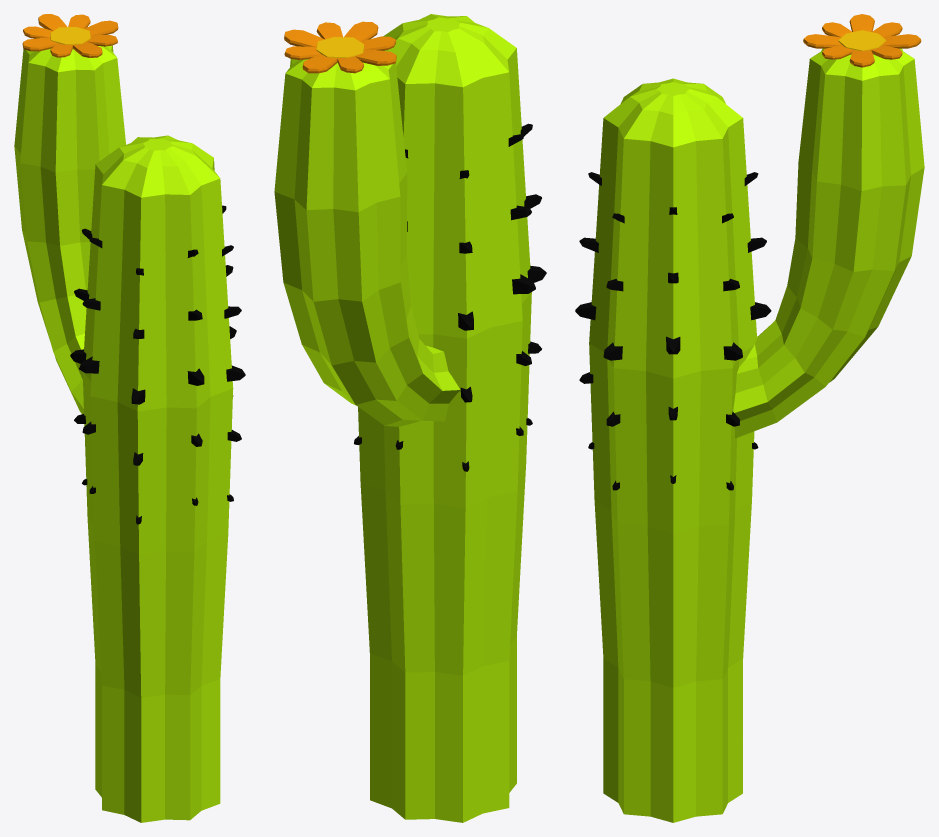
The model's file is Cardon03_01Brazo_Flor_Anaranjada.fbx.
3 views of the same model, side by side, from view 1: azimuth 30°, elevation 25°; view 2: azimuth 150°, elevation 25°; view 3: azimuth 270°, elevation 25° (orthographic). The views are drawn at different scales.
Visible parts, largest first — view 1: Cactus_Cuerpo, Espinas, Flor_Anaranjada; view 2: Cactus_Cuerpo, Flor_Anaranjada, Espinas; view 3: Cactus_Cuerpo, Flor_Anaranjada, Espinas.
Part boxes in pixels (<box>): Cactus_Cuerpo: <box>14,45,233,822</box>; Espinas: <box>70,205,245,524</box>; Flor_Anaranjada: <box>22,14,118,57</box>; Cactus_Cuerpo: <box>274,14,531,822</box>; Flor_Anaranjada: <box>284,21,396,73</box>; Espinas: <box>354,123,546,471</box>; Cactus_Cuerpo: <box>589,48,924,822</box>; Flor_Anaranjada: <box>803,14,921,67</box>; Espinas: <box>575,172,771,490</box>.
Size of the model in its own units: 53.18 by 226 by 94.85.
